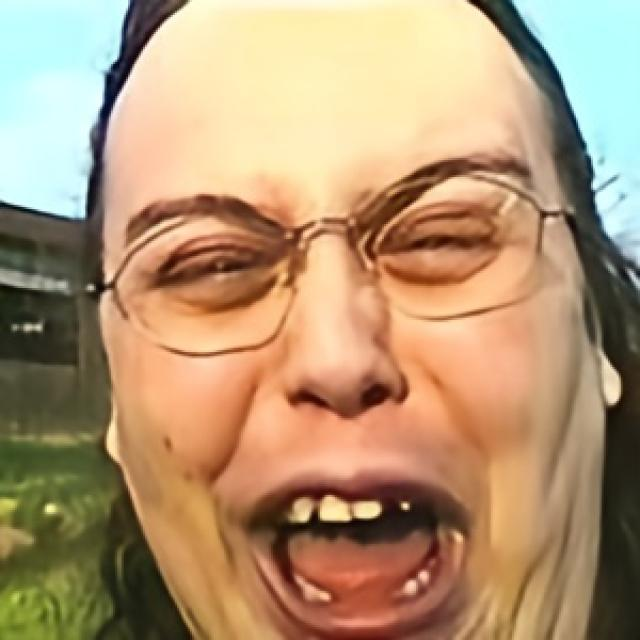disgust: (96, 0, 606, 640)
